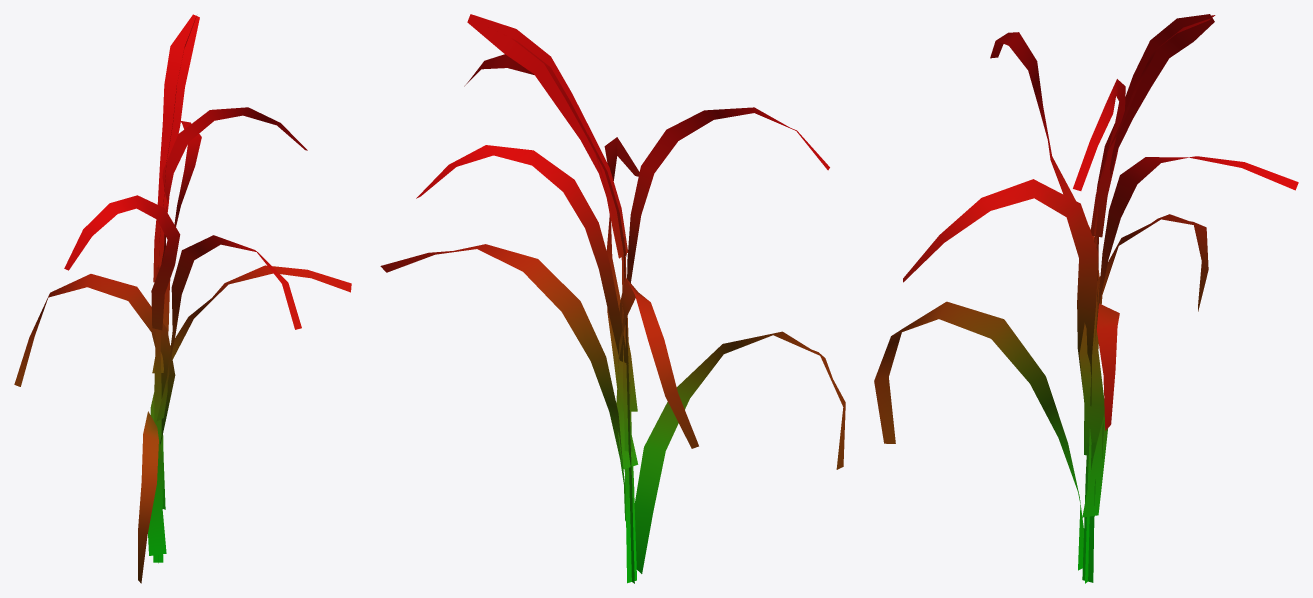
Rendered from Great Brome_LOD2_Var6_tjugaikia.fbx.
3 renders of one model, left to right at view 1: azimuth 30°, elevation 25°; view 2: azimuth 150°, elevation 25°; view 3: azimuth 270°, elevation 25°, orthographic. The views are drawn at different scales.
Parts seen in each view (by area): view 1: _15fb_Var6_LOD2; view 2: _15fb_Var6_LOD2; view 3: _15fb_Var6_LOD2.
Part boxes in pixels (box(x1,y1,x2,y2)): _15fb_Var6_LOD2: box(14, 14, 351, 583); _15fb_Var6_LOD2: box(380, 14, 845, 583); _15fb_Var6_LOD2: box(874, 14, 1298, 583).
Size of the model in its own units: 44.13 by 62.46 by 38.68.
